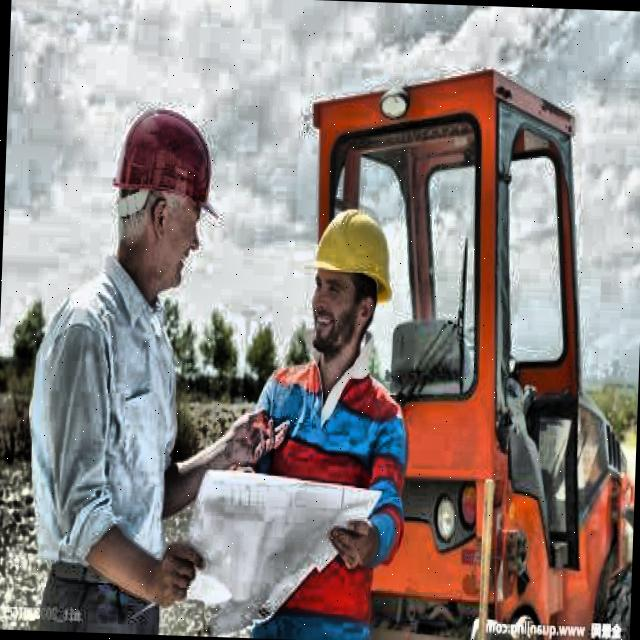helmet: (96, 79, 230, 302), (296, 186, 402, 370)
